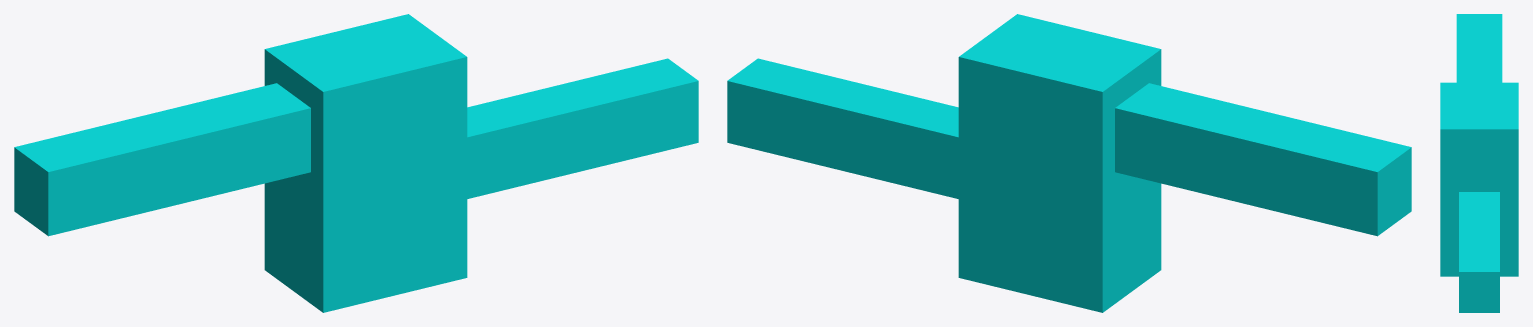
The model's file is SM_Prop_Inflatable_07_Pole_Collision.fbx.
3 views of the same model, side by side, from view 1: azimuth 30°, elevation 25°; view 2: azimuth 150°, elevation 25°; view 3: azimuth 270°, elevation 25° (orthographic). The views are drawn at different scales.
Visible parts, largest first — view 1: SM_Prop_Inflatable_07_Pole_Collision; view 2: SM_Prop_Inflatable_07_Pole_Collision; view 3: SM_Prop_Inflatable_07_Pole_Collision.
Part boxes in pixels (x1,y1,x2,y2): SM_Prop_Inflatable_07_Pole_Collision: (14, 14, 698, 312); SM_Prop_Inflatable_07_Pole_Collision: (727, 14, 1411, 312); SM_Prop_Inflatable_07_Pole_Collision: (1440, 14, 1518, 312).
Bounding box in the file's own units: 386 × 125 × 60.
